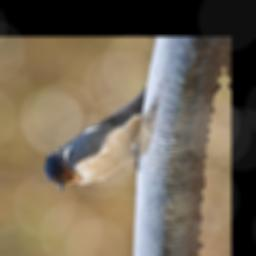Swallow: (40, 87, 151, 193)
